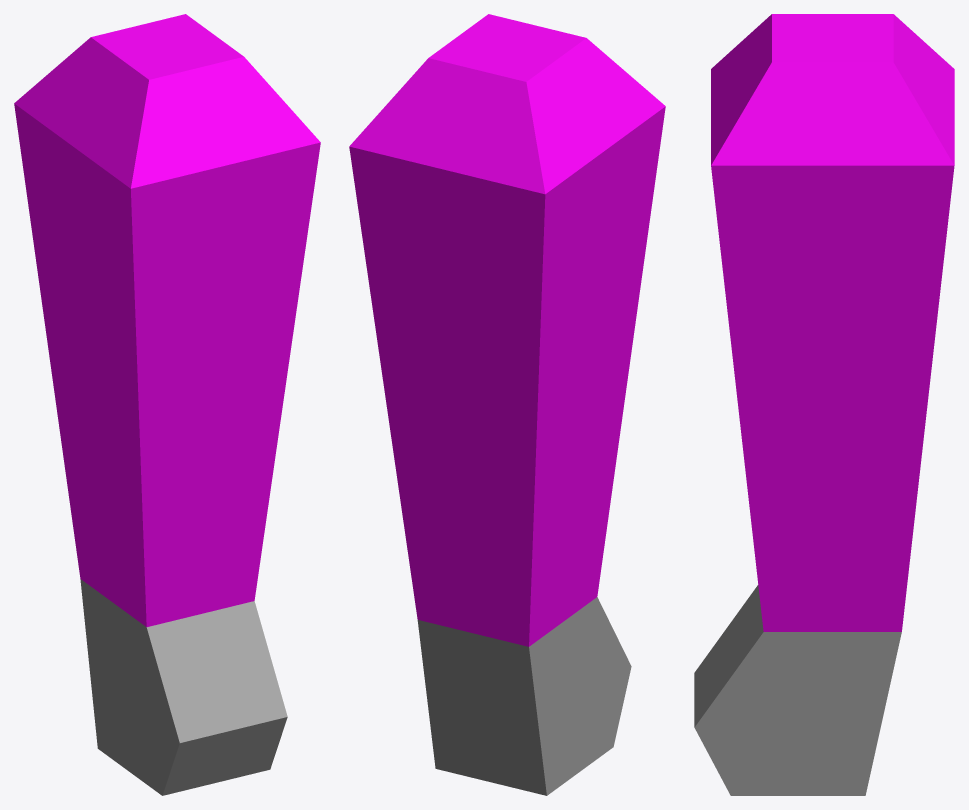
The model's file is BasicMutant-LowerArm.fbx.
3 renders of one model, left to right at view 1: azimuth 30°, elevation 25°; view 2: azimuth 150°, elevation 25°; view 3: azimuth 270°, elevation 25°, orthographic. The views are drawn at different scales.
Visible parts, largest first — view 1: BasicMutant-LOWERARM; view 2: BasicMutant-LOWERARM; view 3: BasicMutant-LOWERARM.
Boxes of the visible parts, left/top/right/bottom form: BasicMutant-LOWERARM: left=14, top=14, right=320, bottom=795; BasicMutant-LOWERARM: left=349, top=14, right=665, bottom=795; BasicMutant-LOWERARM: left=694, top=14, right=954, bottom=795.
Bounding box in the file's own units: 0.1568 × 0.552 × 0.1781.
